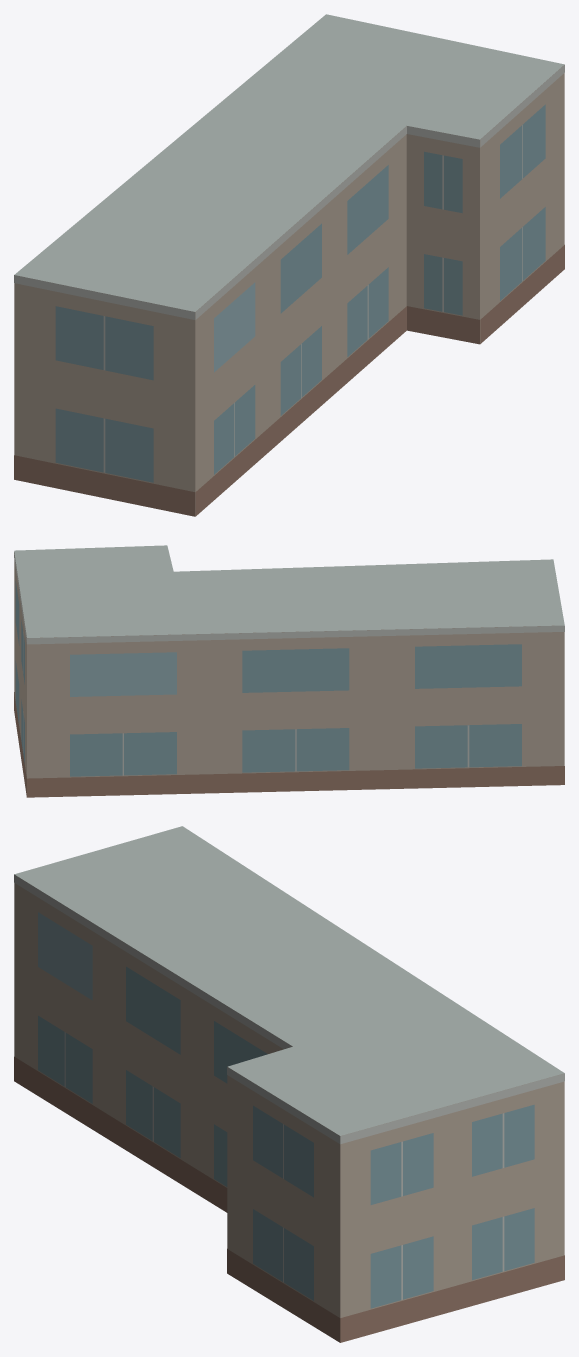
Rendered from survey-upis-32763304.glb.
3 views of the same model, one above another, from view 1: azimuth 30°, elevation 25°; view 2: azimuth 150°, elevation 25°; view 3: azimuth 270°, elevation 25° (orthographic). The views are drawn at different scales.
Parts seen in each view (by area): view 1: survey-upis-32763304.tmp; view 2: survey-upis-32763304.tmp; view 3: survey-upis-32763304.tmp.
Boxes of the visible parts, <box> form: survey-upis-32763304.tmp: <box>14,14,564,516</box>; survey-upis-32763304.tmp: <box>14,545,564,797</box>; survey-upis-32763304.tmp: <box>14,826,564,1342</box>.
Size of the model in its own units: 19.62 by 6.1 by 14.73.
